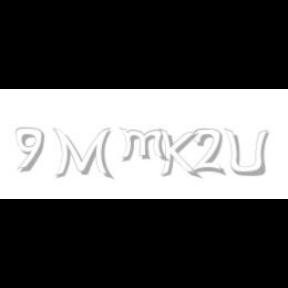2: (190, 128, 224, 176)
9: (16, 128, 44, 172)
K: (158, 128, 198, 180)
M: (52, 128, 112, 180)
U: (224, 128, 268, 178)
m: (118, 128, 170, 162)
